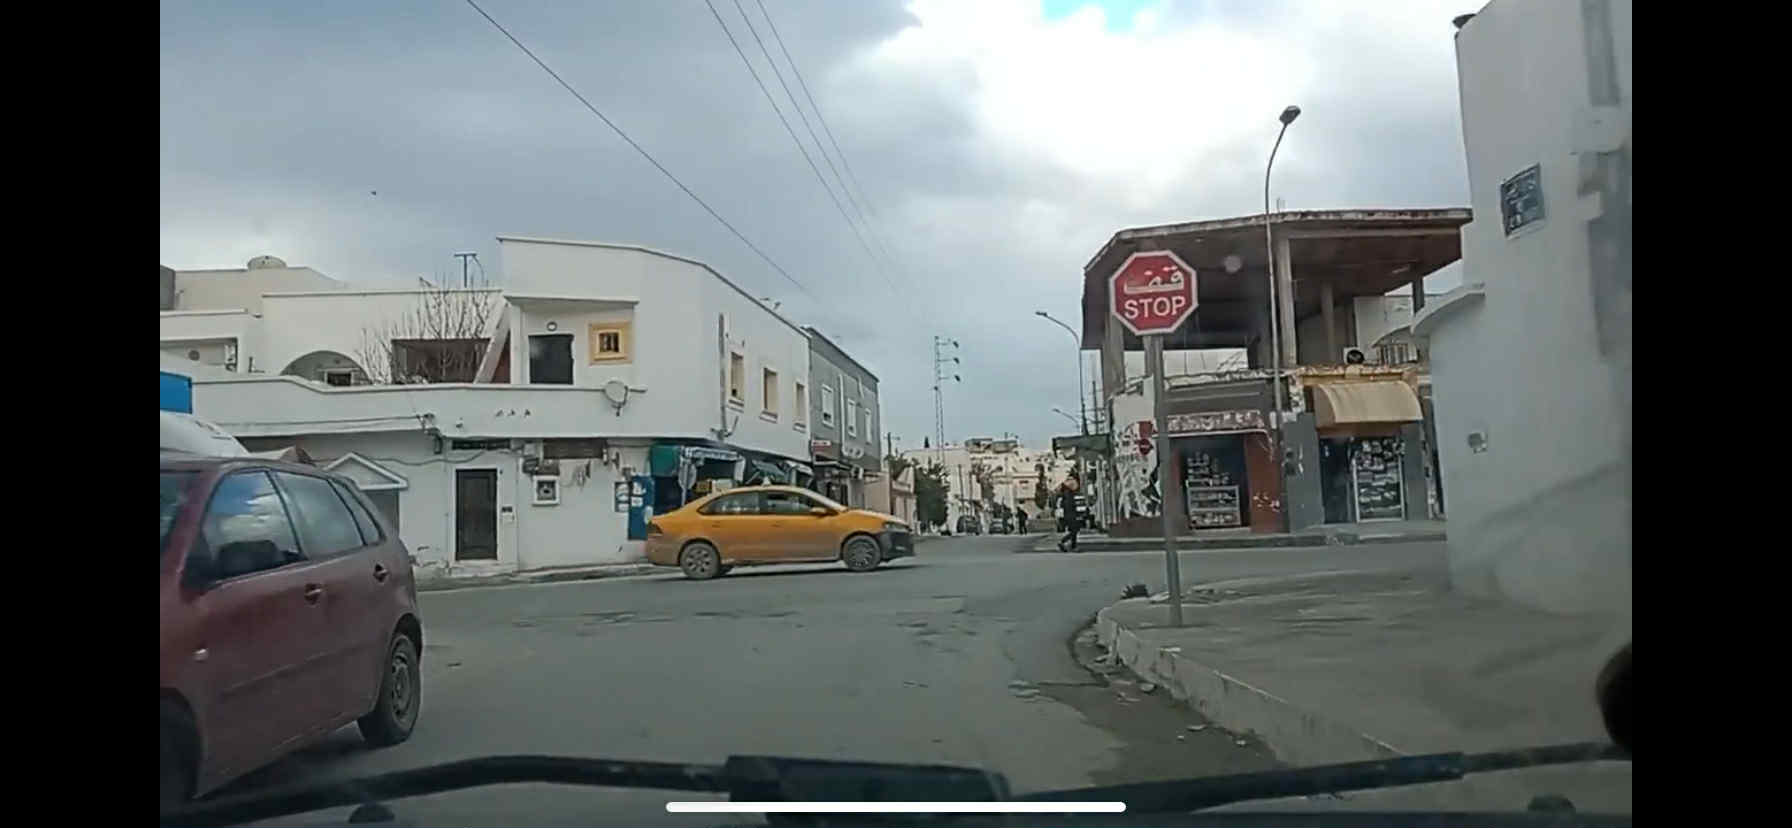Stop: (1107, 249, 1199, 336)
